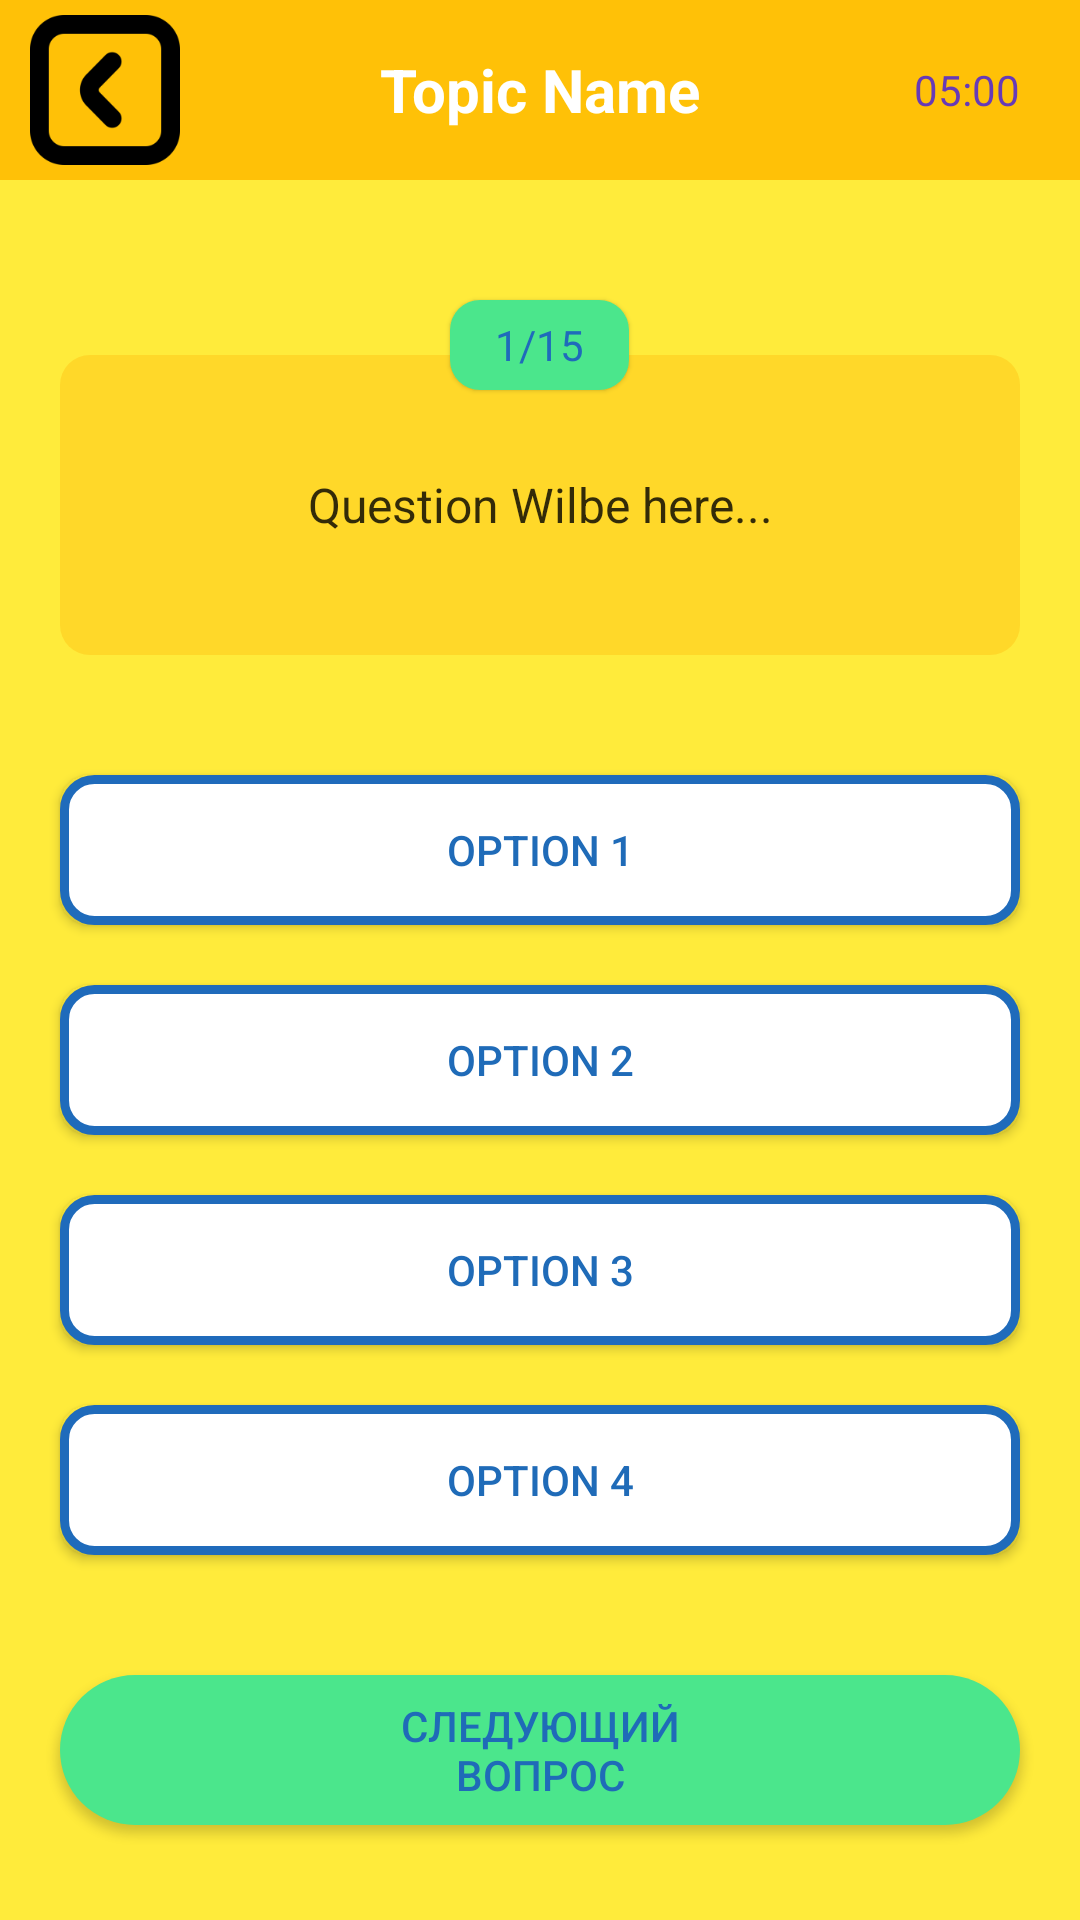

Icon bounding boxes for this 1080*1920 phone screenshot, format (x1, y1, x2, y2):
backing: (30, 15, 180, 165)
